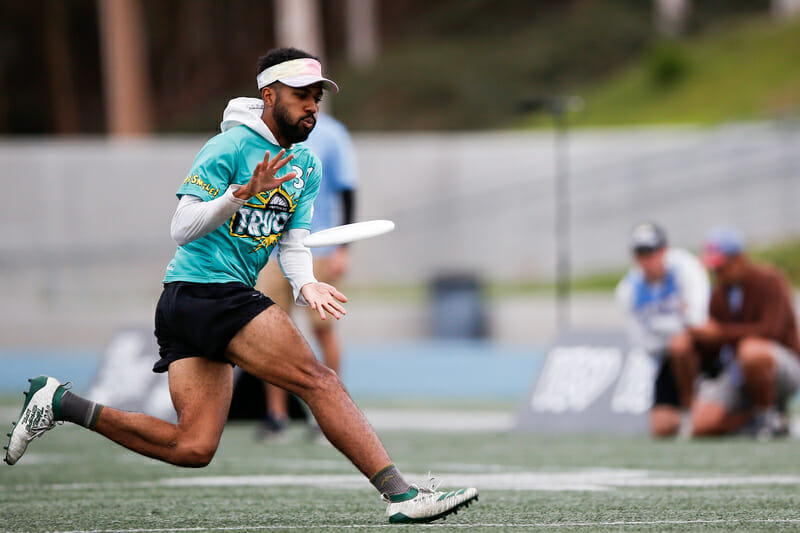disc: (303, 220, 405, 244)
